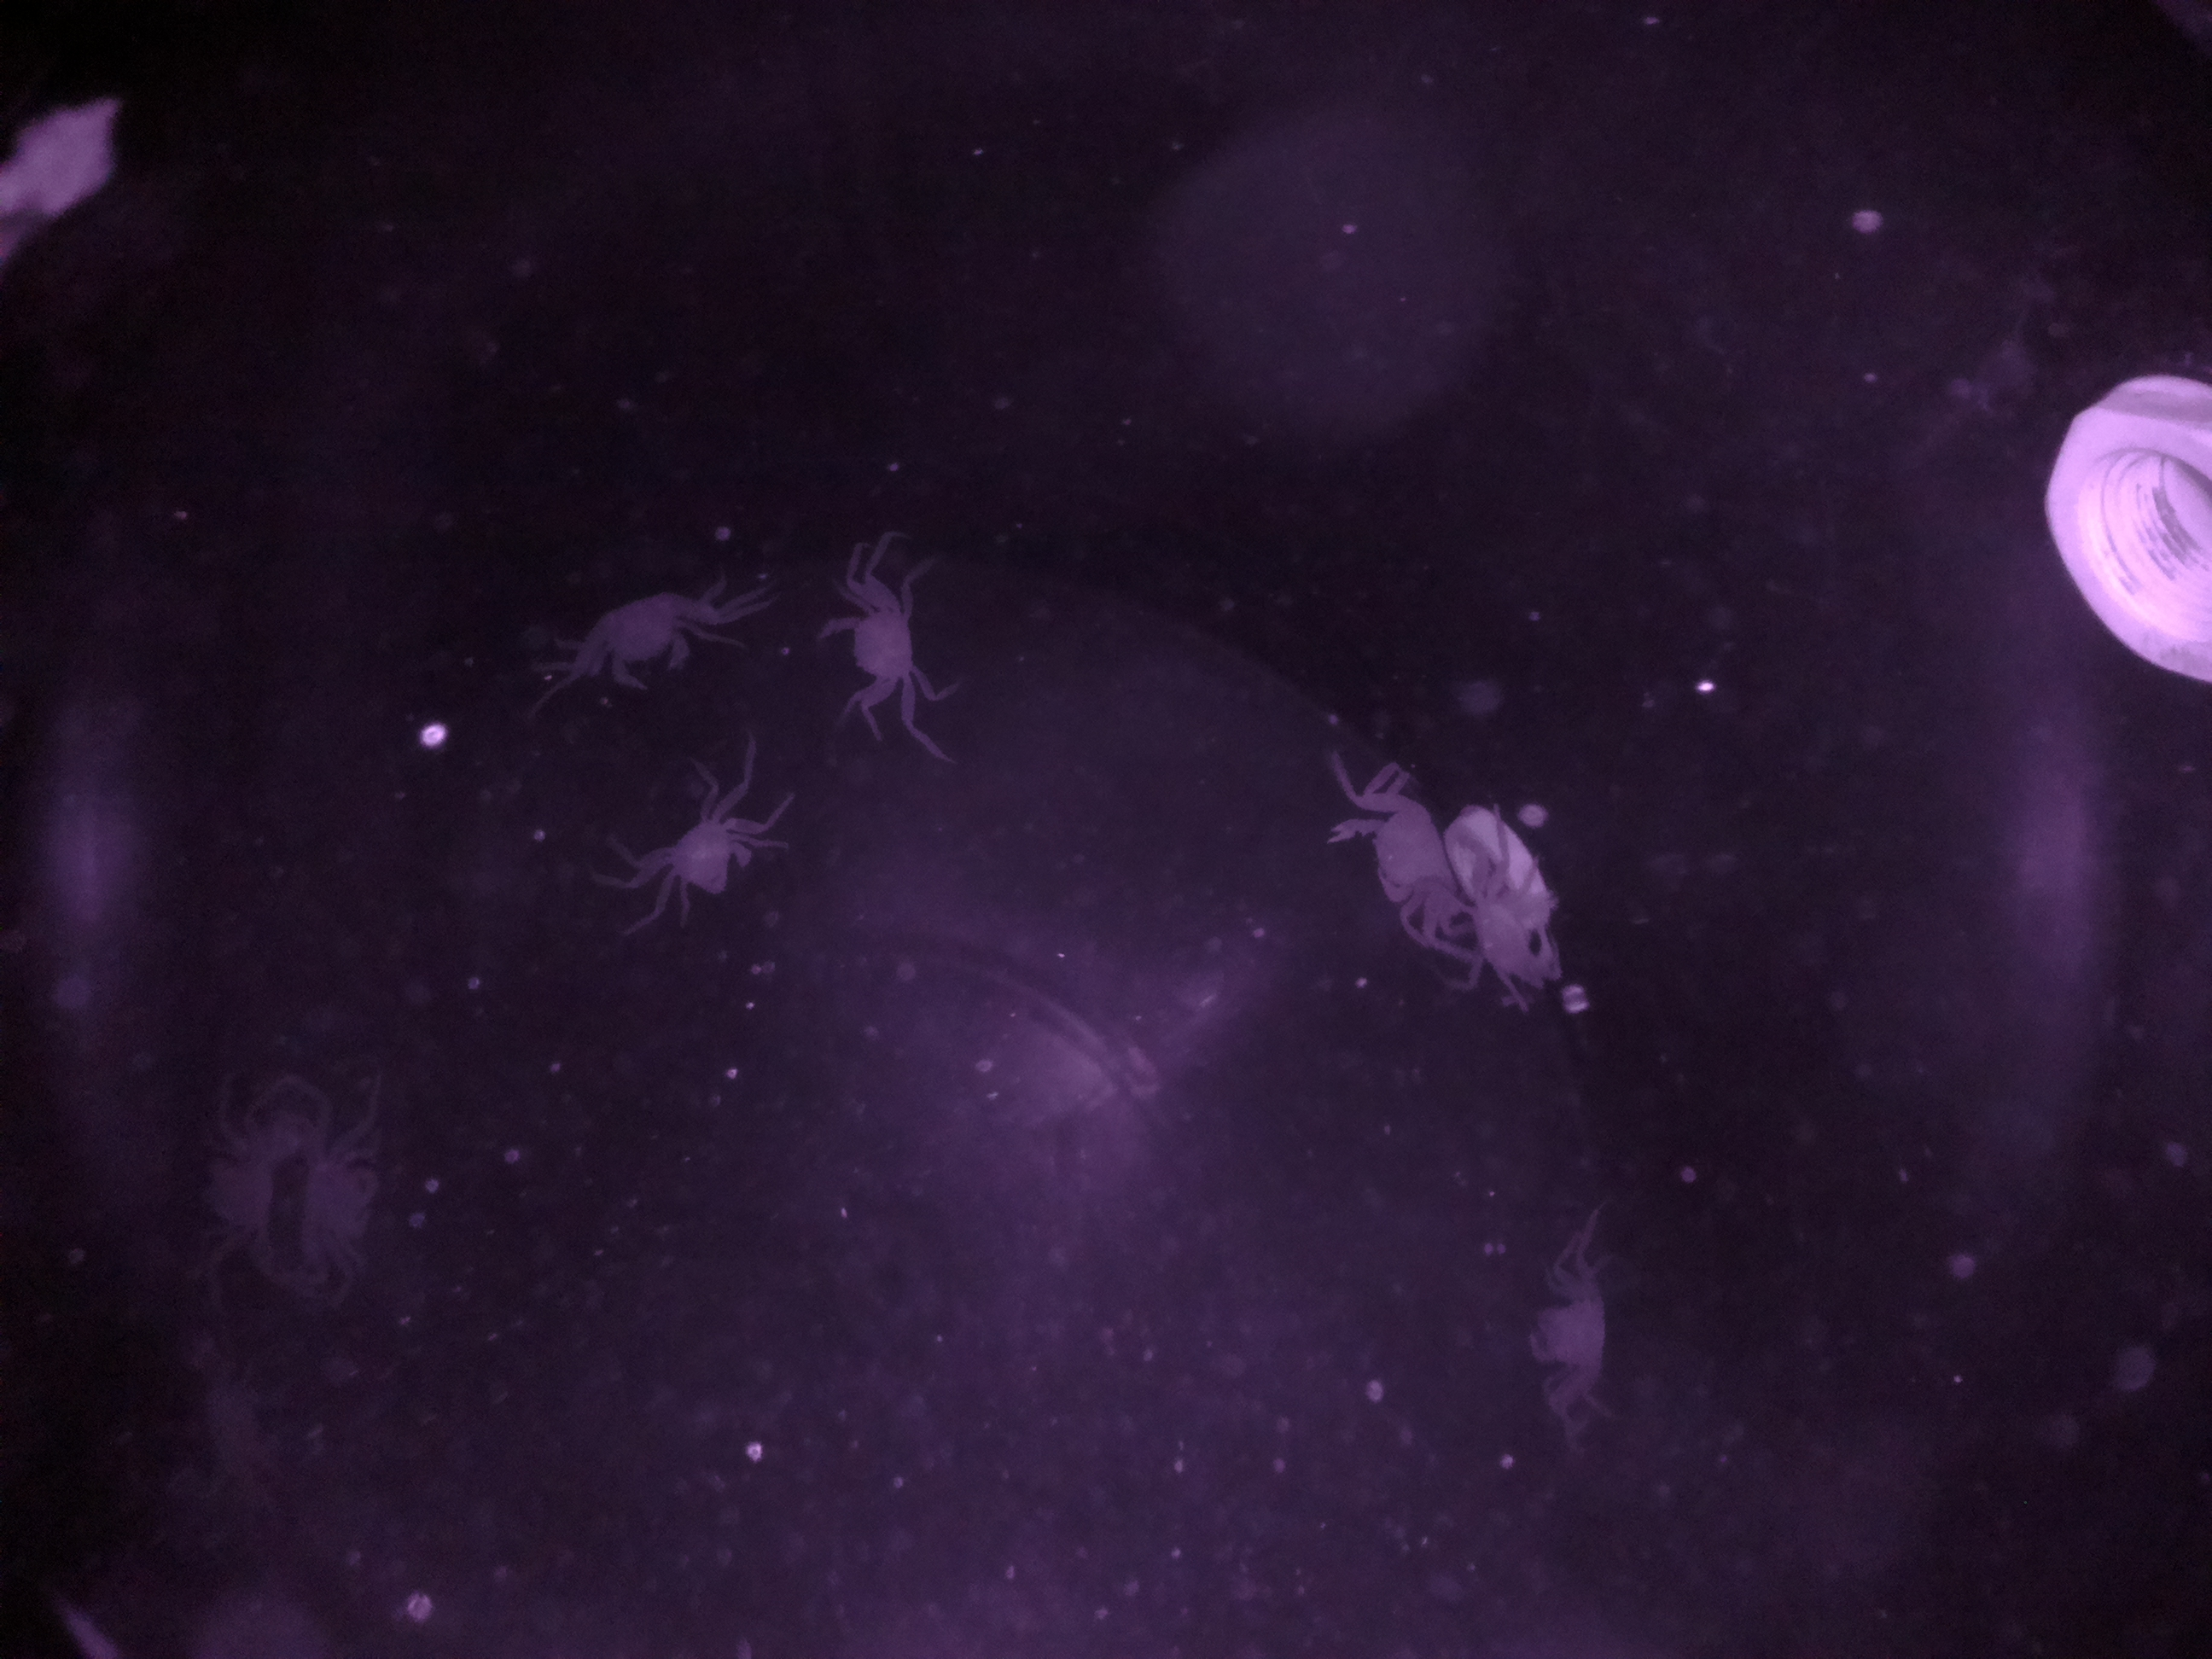Crab: (805, 563, 993, 735), (542, 556, 737, 716), (629, 760, 779, 938), (1318, 767, 1463, 931)
